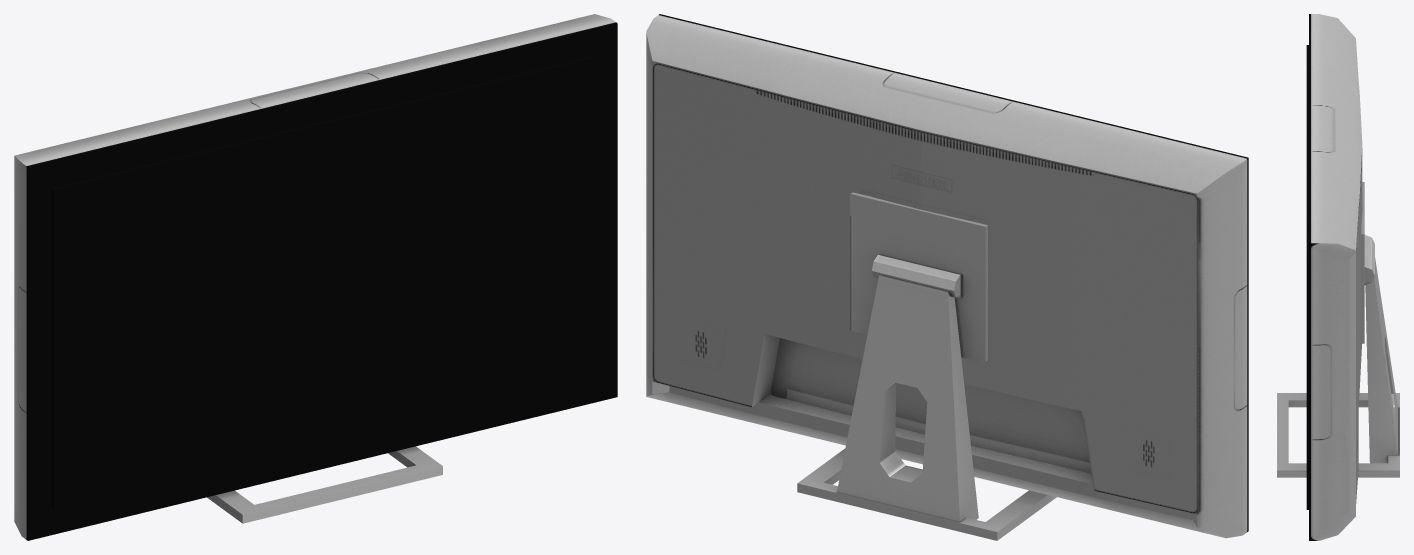
The model's file is UTC_320st.fbx.
3 views of the same model, side by side, from view 1: azimuth 30°, elevation 25°; view 2: azimuth 150°, elevation 25°; view 3: azimuth 270°, elevation 25° (orthographic). The views are drawn at different scales.
Parts seen in each view (by area): view 1: C, A, B, D; view 2: B, D, A; view 3: B, D, C, A.
Boxes of the visible parts, box(x1,y1,x2,y2) form: C: box(52, 56, 594, 508); A: box(26, 22, 617, 540); B: box(14, 14, 615, 539); D: box(207, 446, 442, 523); B: box(646, 15, 1247, 538); D: box(797, 192, 1056, 540); A: box(659, 14, 1248, 531); B: box(1311, 14, 1362, 540); D: box(1277, 182, 1399, 477); C: box(1306, 45, 1308, 509); A: box(1309, 14, 1310, 540).
Bounding box in the file's own units: 52.03 × 32.83 × 11.78.
1 material, 1 textured.
